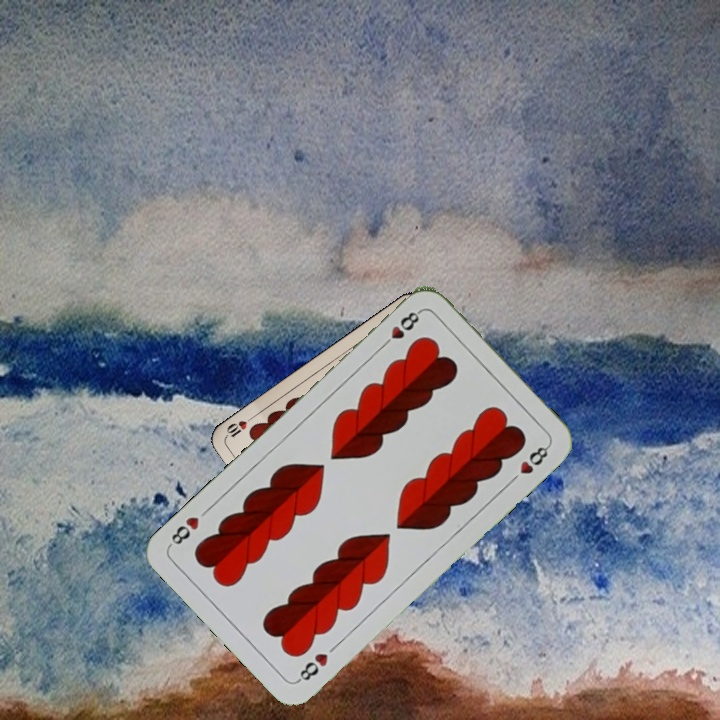H8: (377, 306, 424, 351), (293, 649, 331, 685)
